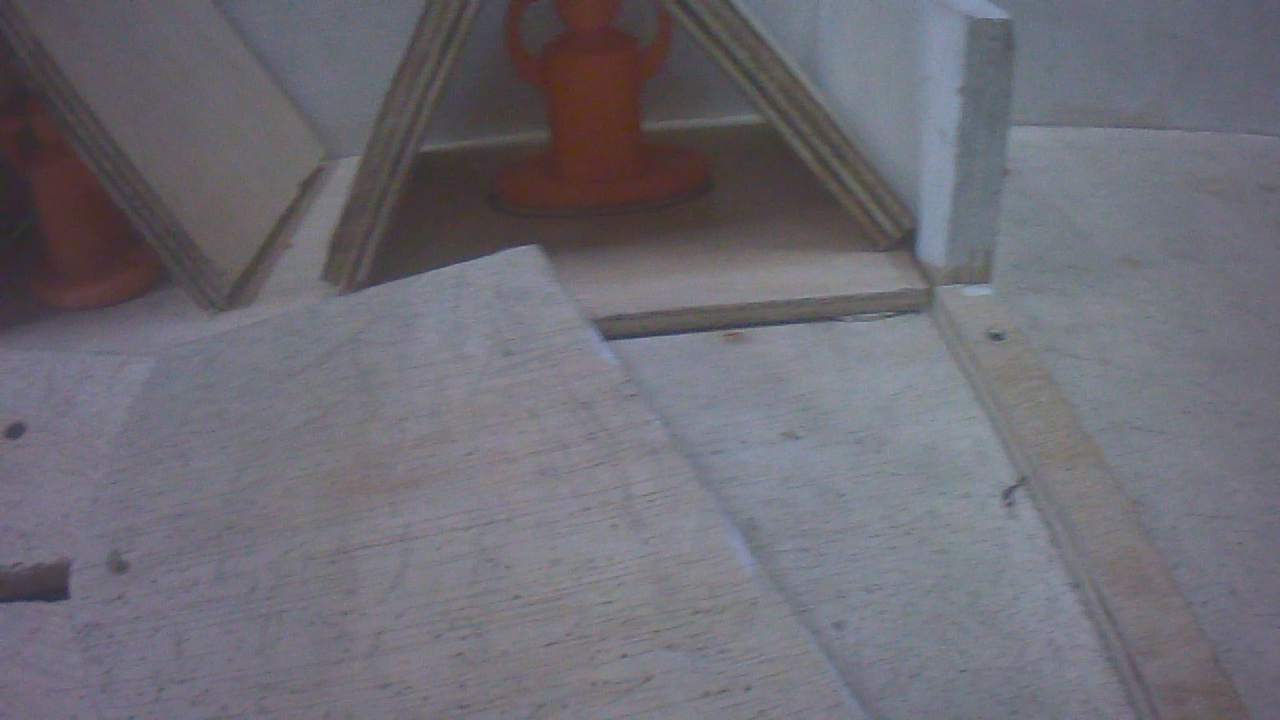real: (476, 1, 717, 208)
